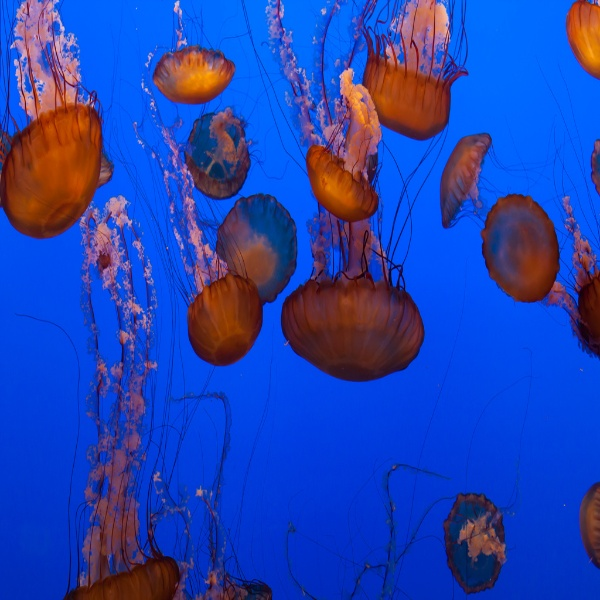Jellyfish: (0, 0, 599, 599), (2, 69, 107, 235), (359, 0, 468, 139)
